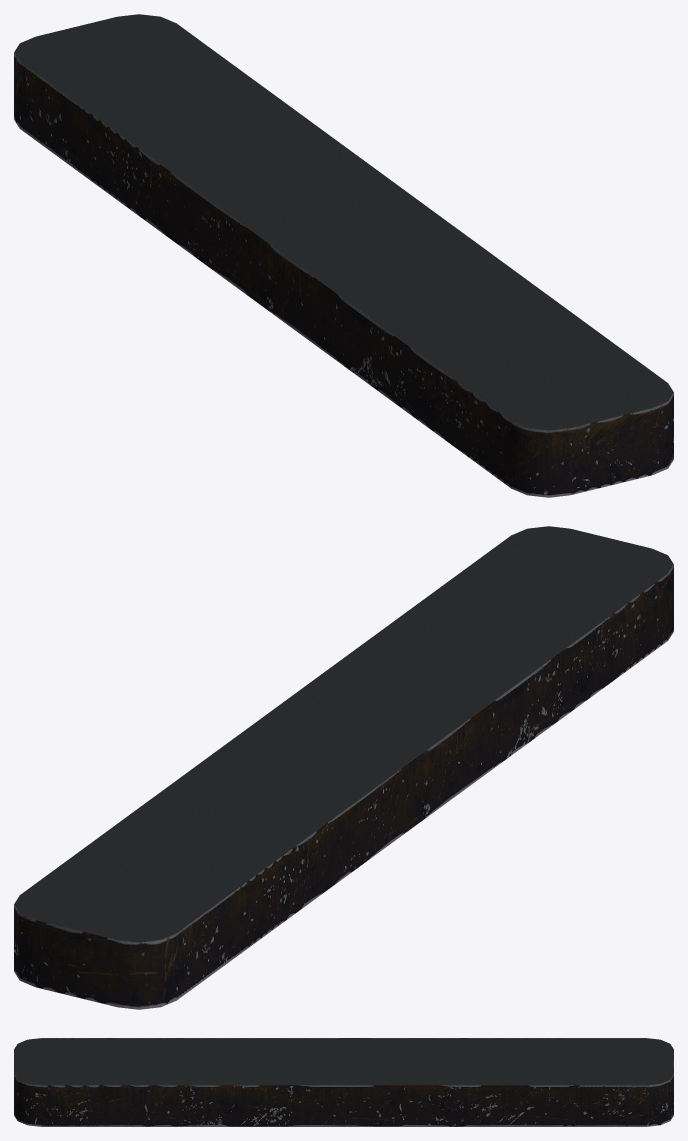
The model's file is luminarias.fbx.
The picture shows the model from 3 angles, top to bottom: view 1: azimuth 30°, elevation 25°; view 2: azimuth 150°, elevation 25°; view 3: azimuth 270°, elevation 25°; orthographic projection. The views are drawn at different scales.
Visible parts, largest first — view 1: luminaria; view 2: luminaria; view 3: luminaria.
Part boxes in pixels (x1,y1,x2,y2): luminaria: [14, 14, 673, 497]; luminaria: [14, 526, 673, 1009]; luminaria: [14, 1038, 673, 1126].
Bounding box in the file's own units: 17.02 × 7.78 × 100.
